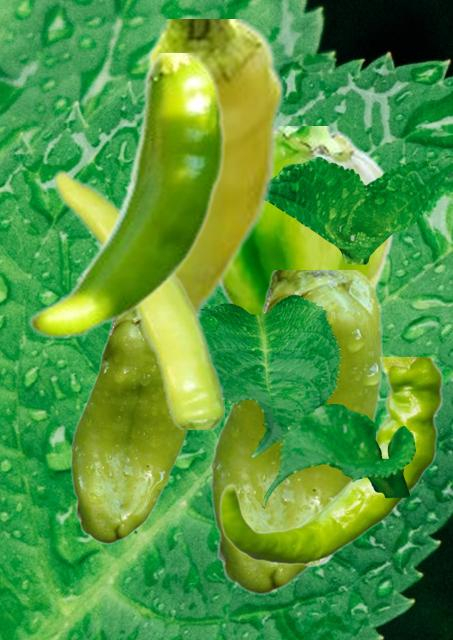green_chili: (27, 53, 225, 339), (210, 270, 381, 594), (219, 357, 443, 566), (138, 19, 284, 323), (53, 168, 223, 428), (218, 126, 397, 313), (70, 312, 188, 543)
